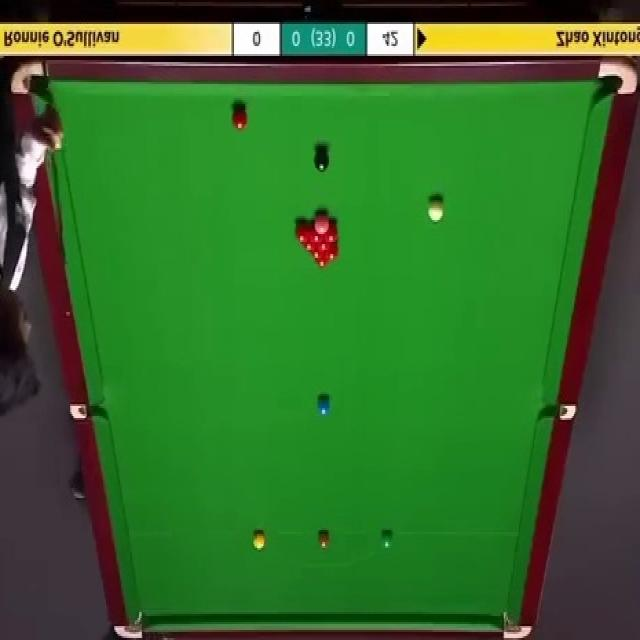black-ball: (313, 144, 330, 174)
blue-ball: (316, 394, 332, 419)
brown-ball: (317, 529, 331, 549)
green-ball: (382, 528, 396, 550)
pink-ball: (314, 212, 330, 234)
red-ball: (232, 105, 249, 132), (294, 218, 310, 242), (324, 218, 339, 243), (310, 223, 324, 242), (324, 244, 339, 261), (301, 240, 319, 253), (315, 240, 332, 251), (314, 259, 330, 270), (310, 251, 325, 260)
white-ball: (428, 196, 445, 224)
yellow-ball: (252, 530, 266, 550)
